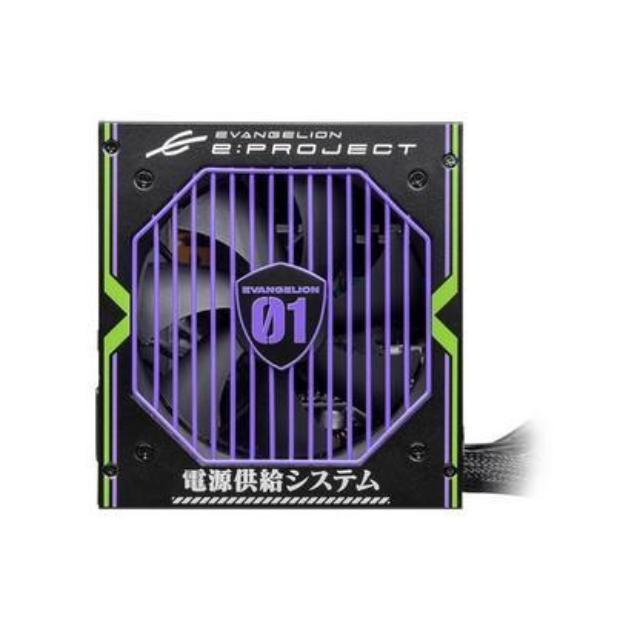PSU: (84, 103, 484, 528)
